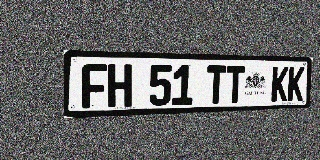1: (172, 65, 193, 105)
5: (150, 65, 172, 106)
F: (82, 64, 107, 108)
H: (108, 64, 132, 108)
K: (271, 66, 289, 102), (287, 67, 305, 101)
T: (206, 65, 226, 104), (226, 66, 245, 103)
